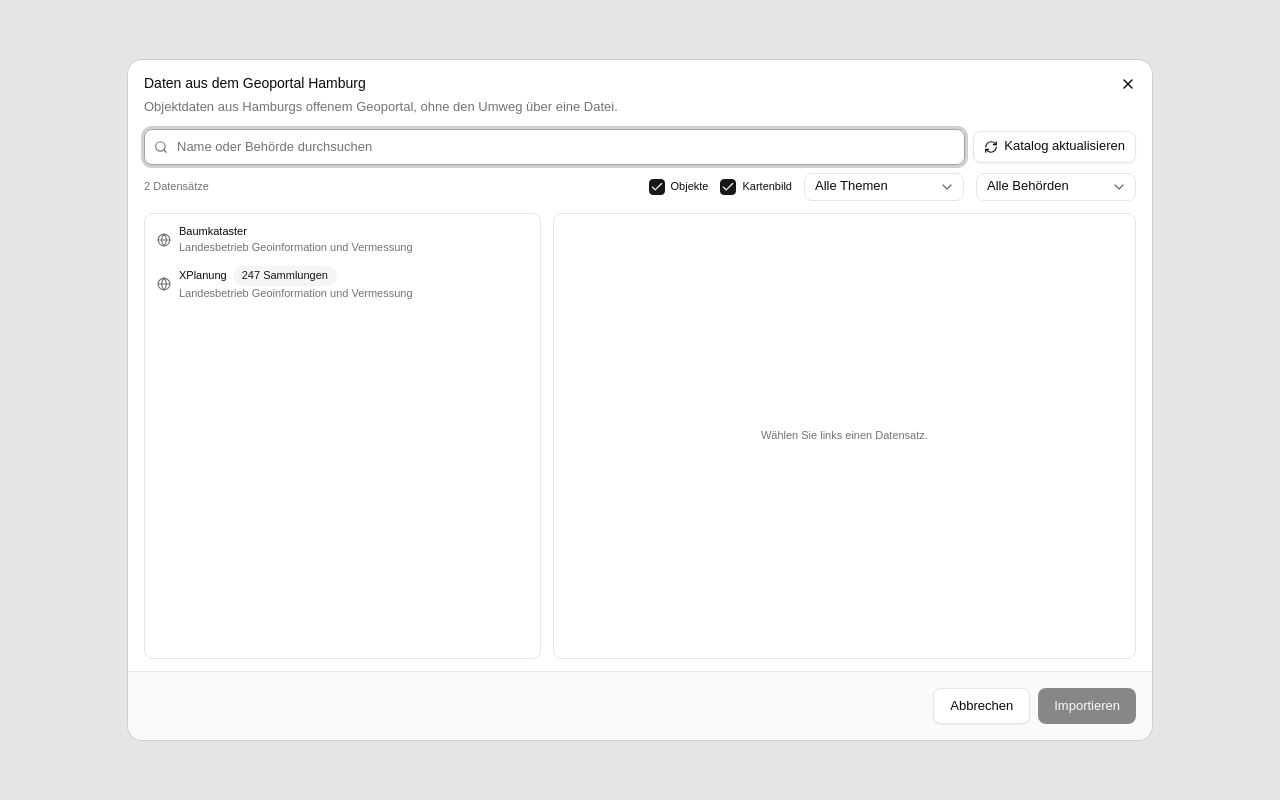
GeoportalDialog detail pane › falls back to the list entry when the detail carries no description
Click the button "Baumkataster Landesbetrieb Geoinformation und Vermessung" at point(342, 240), box 149,218 -> 536,262
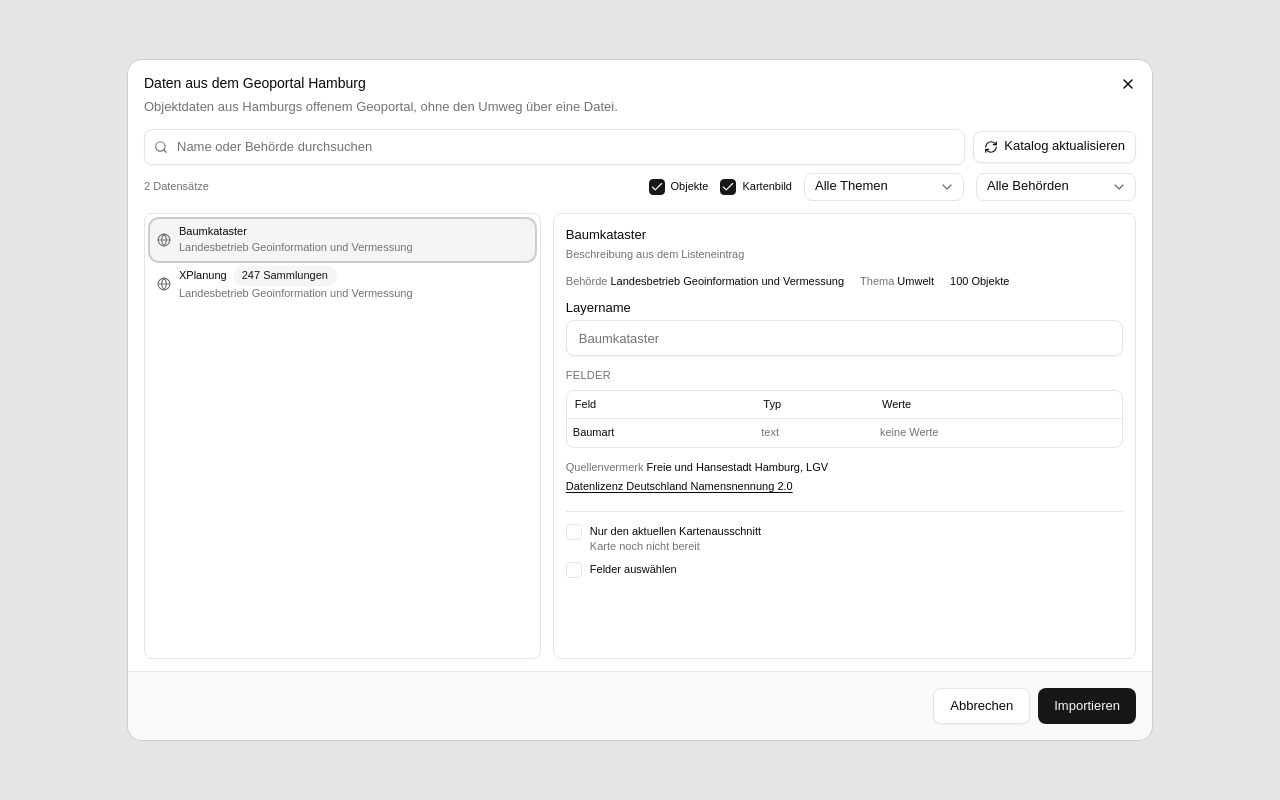
Result: the text "Quellenvermerk Freie und Hansestadt Hamburg, LGV" is shown at 566,461 -> 828,473
Result: the text "Beschreibung aus dem Listeneintrag" is shown at 566,248 -> 744,260
